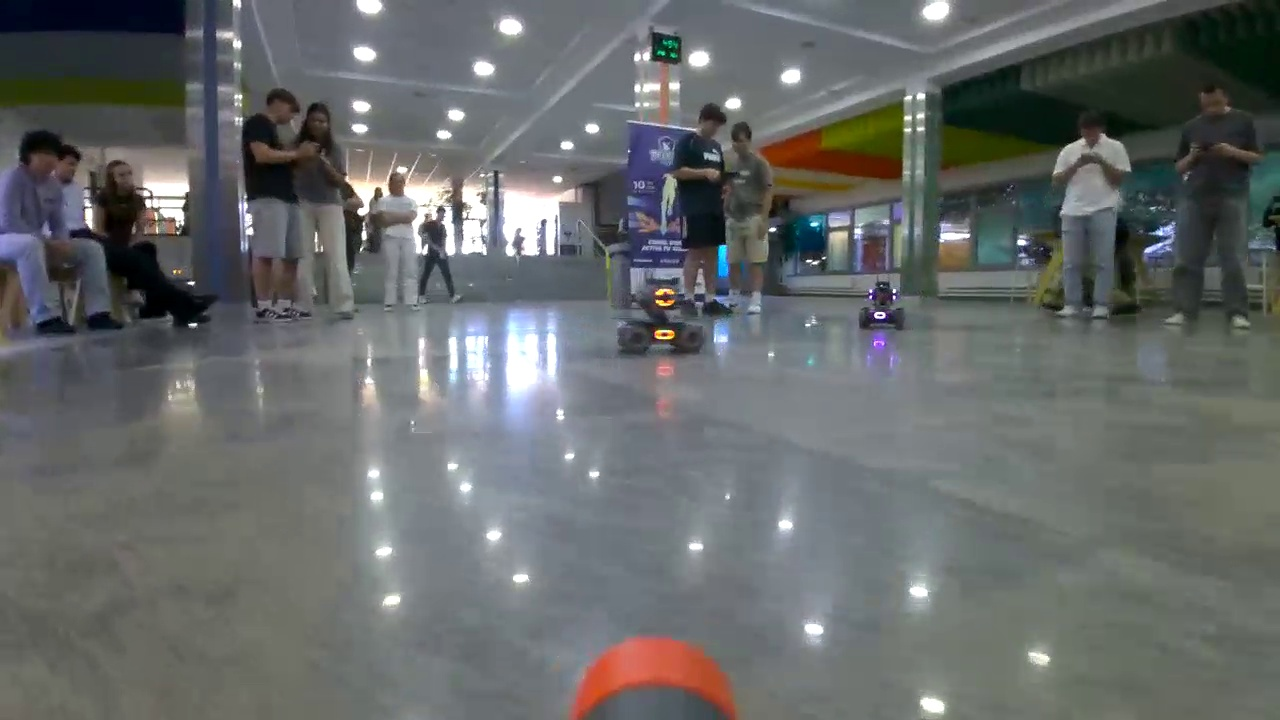robot: (616, 284, 704, 355), (860, 280, 905, 330)
